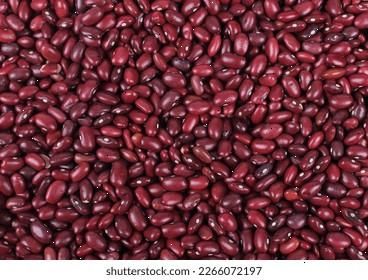rajma: (0, 0, 368, 257)
